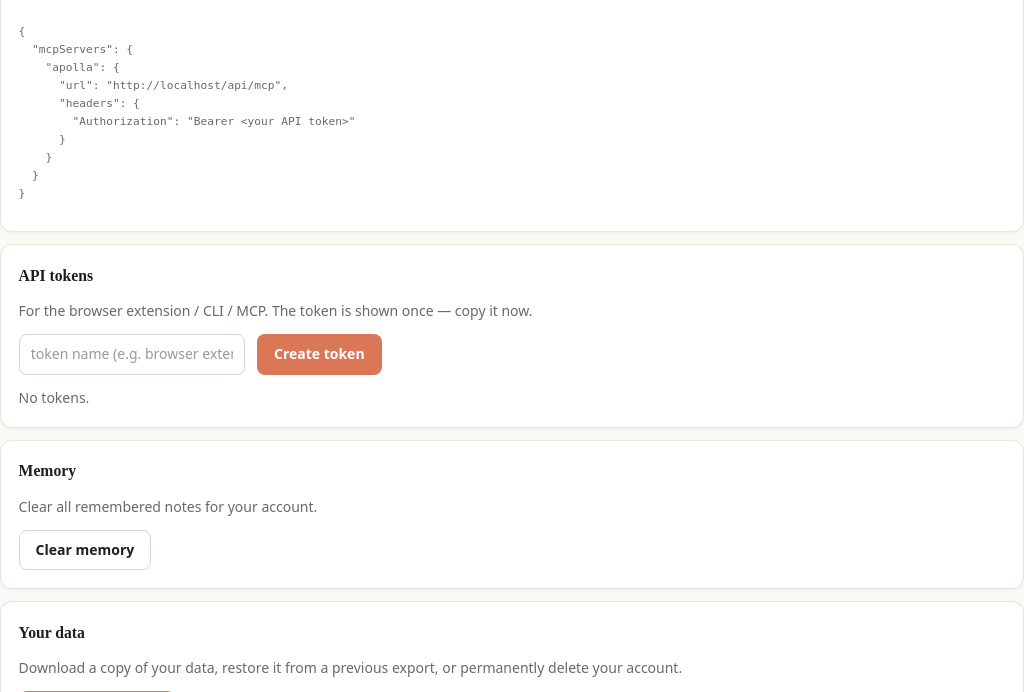
Test: Settings page › creates an API token and shows the plaintext once
The image size is (1024, 692).
(page scrolled)
Type "ext" into the field with placeholder "token name (e.g. browser extension)". click: (132, 355)
box: [19, 334, 245, 375]
(page scrolled)
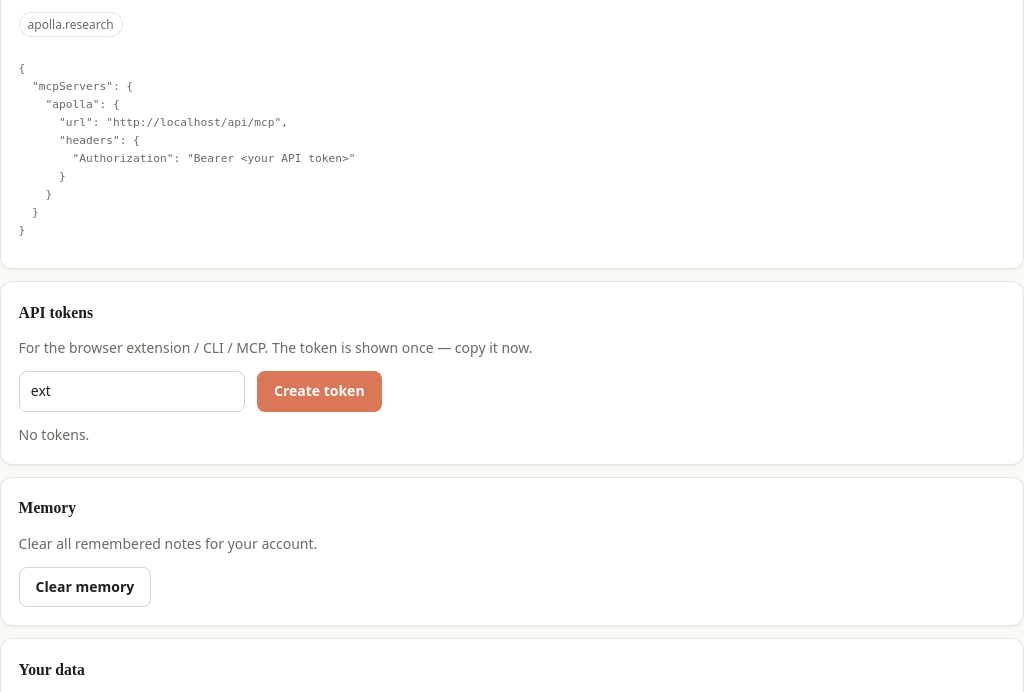
Click the button "Create token". click: (319, 392)
box: [257, 372, 382, 412]
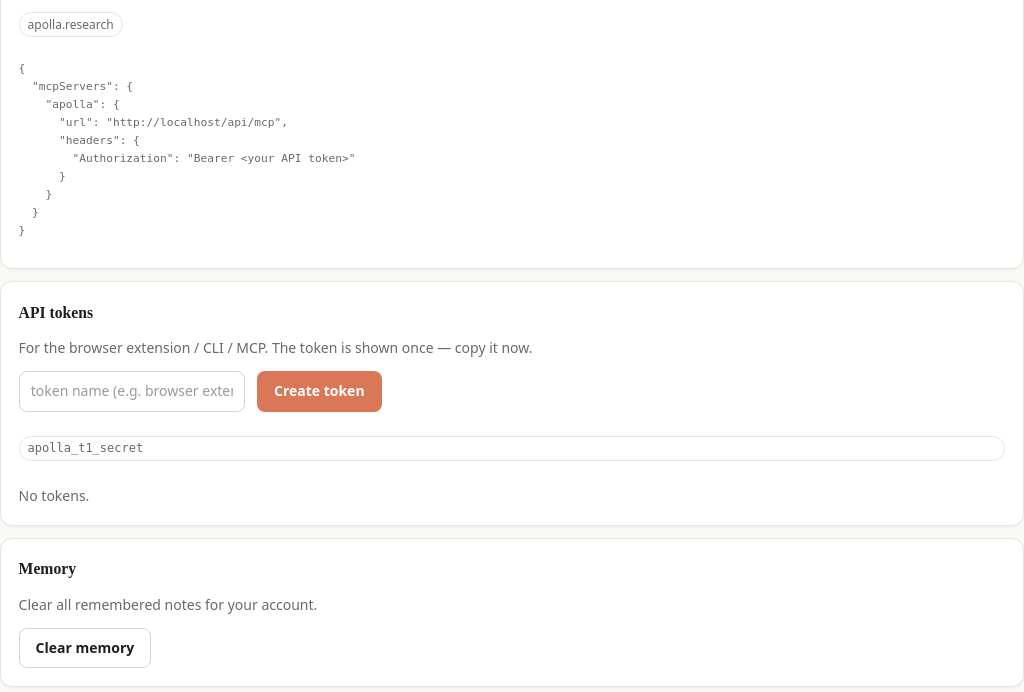
Check: the text "apolla_t1_secret" is shown, box [19, 436, 1005, 461]
